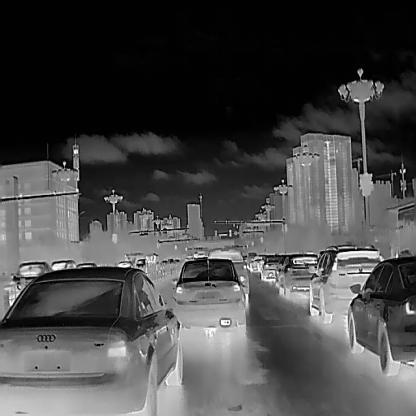car: (0, 266, 182, 415), (346, 255, 415, 375), (308, 243, 384, 321), (174, 257, 245, 337), (207, 248, 248, 305), (6, 260, 54, 306), (277, 251, 319, 299), (261, 253, 287, 282), (250, 253, 271, 273)
